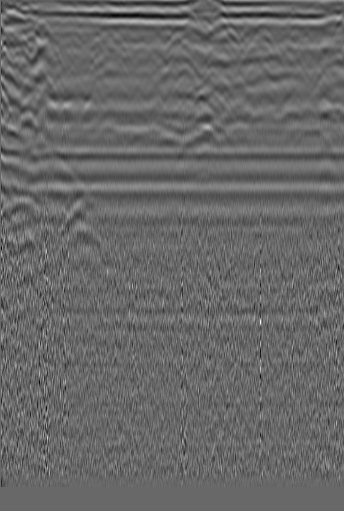상수: (286, 43, 326, 74)
오수: (20, 18, 59, 48)
우수: (141, 40, 172, 68)
